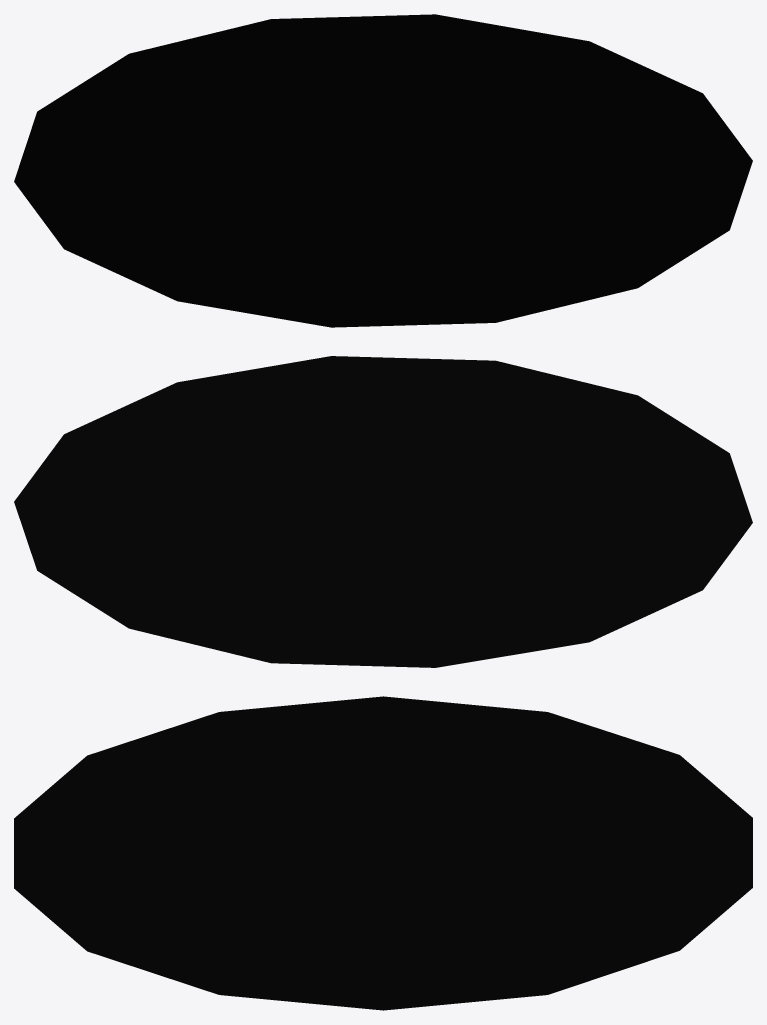
3 renders of one model, top to bottom at view 1: azimuth 30°, elevation 25°; view 2: azimuth 150°, elevation 25°; view 3: azimuth 270°, elevation 25°, orthographic.
Parts seen in each view (by area): view 1: Joint_0_Object_0; view 2: Joint_0_Object_0; view 3: Joint_0_Object_0.
Part boxes in pixels (<box>): Joint_0_Object_0: <box>14,14,752,327</box>; Joint_0_Object_0: <box>14,356,752,667</box>; Joint_0_Object_0: <box>14,696,752,1010</box>.
Bounding box in the file's own units: 530 × 0.7975 × 527.
1 material, 1 textured.
